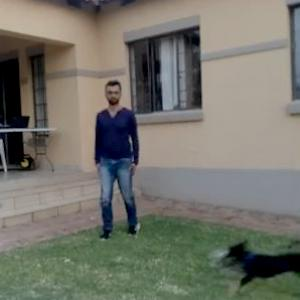follow: (90, 78, 142, 240)
